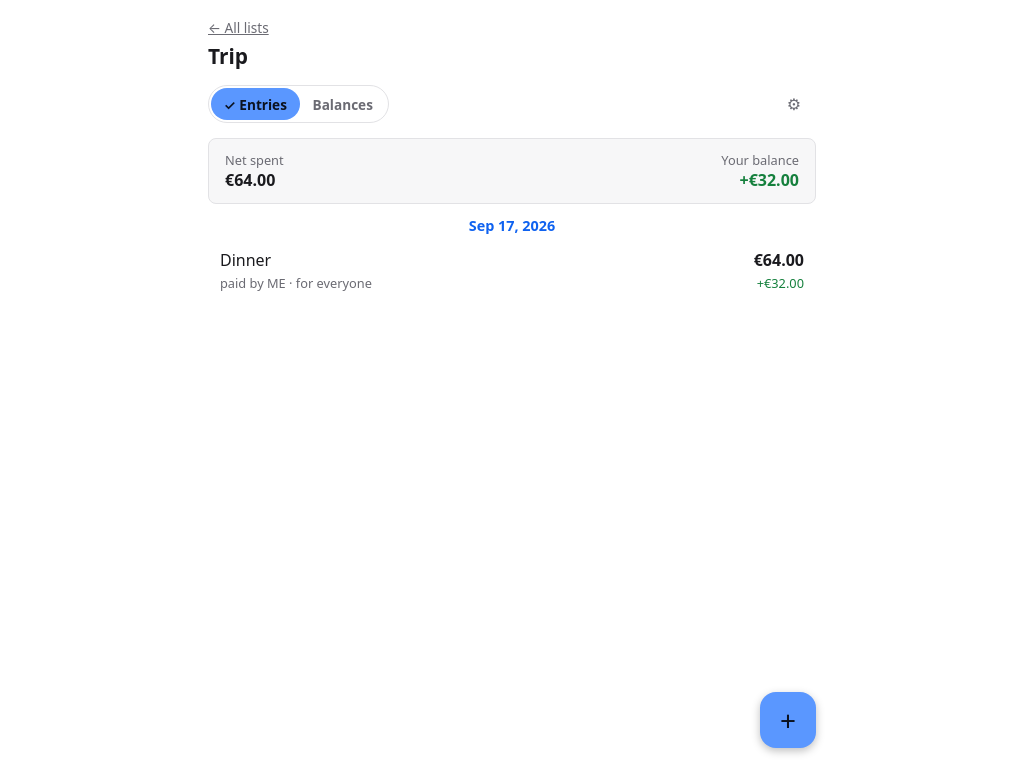
Test: expense list screen › refuses typed shares that exceed the total
Click the button named "Add entry" at (788, 720), box [760,692,816,748]
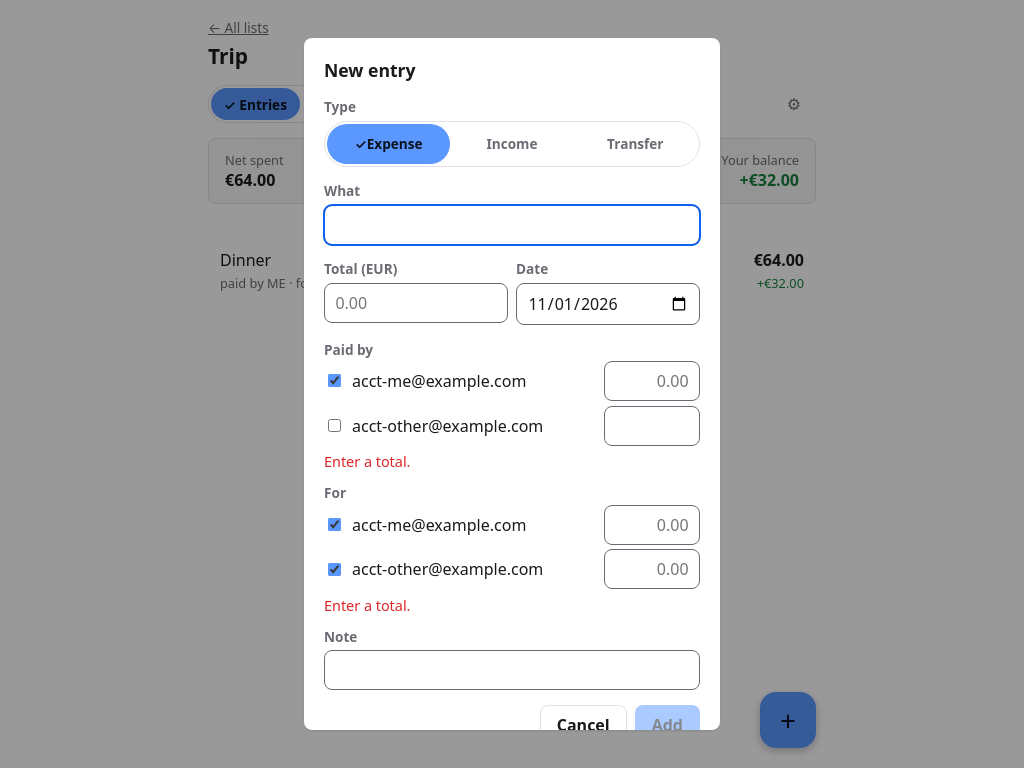
Type "Too much" into the field labelled "What" at (512, 225), box [324,205,700,245]
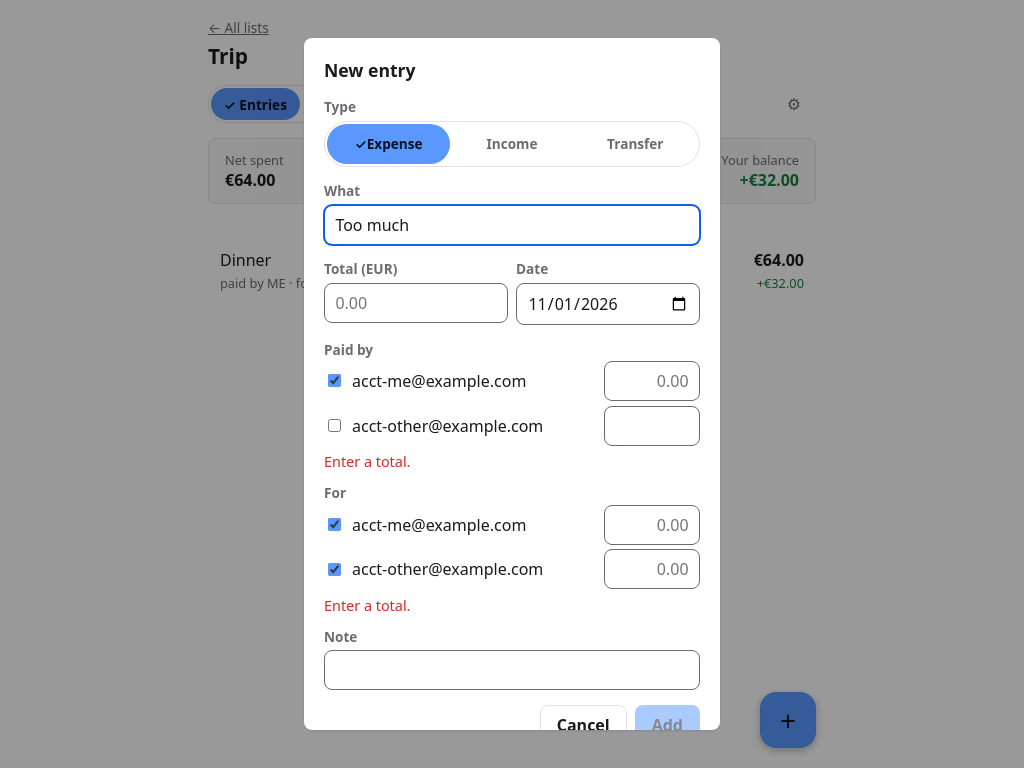
Type "10.00" into the field labelled "Total (EUR)" at (416, 303), box [324,283,508,323]
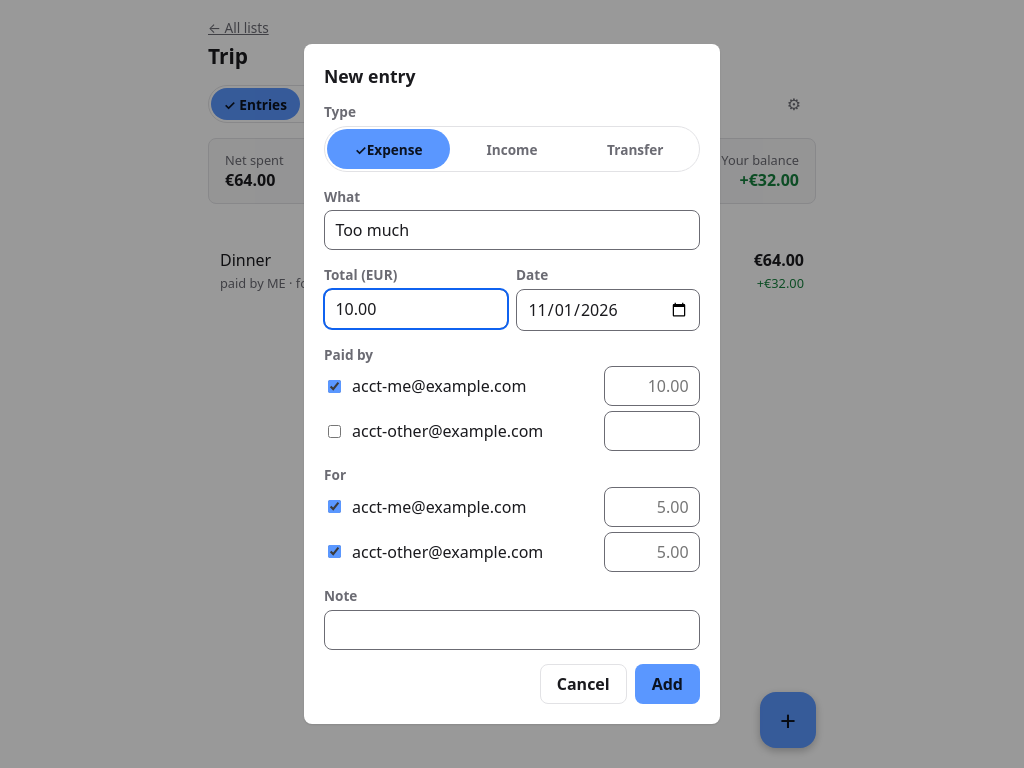
Type "99.00" into the 1st field with placeholder "5.00" at (652, 507), box [604,487,700,527]
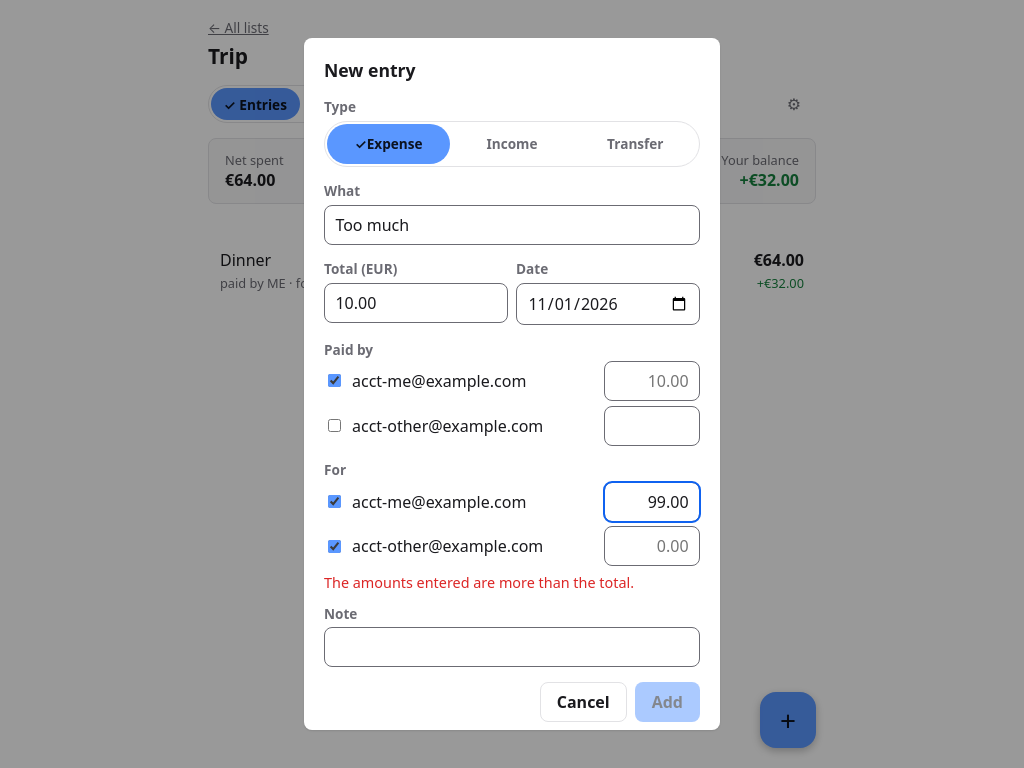
Expected: the message shows "more than the total", [324,573,634,592]
Expected: the button "Add" is disabled, [635,682,700,722]
